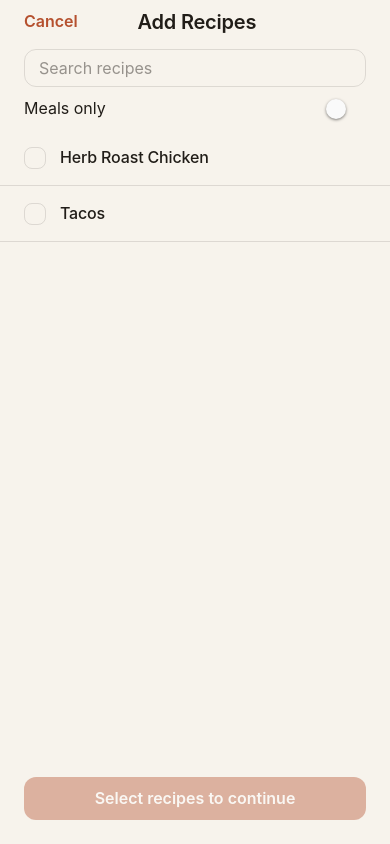
it: going back from the servings step preserves the selection
Check: the text "Herb Roast Chicken" is shown, box [60,147,209,167]
Click the checkbox with test id "add-to-this-week-recipe-r1".
click(195, 158)  # box [0,130,389,186]
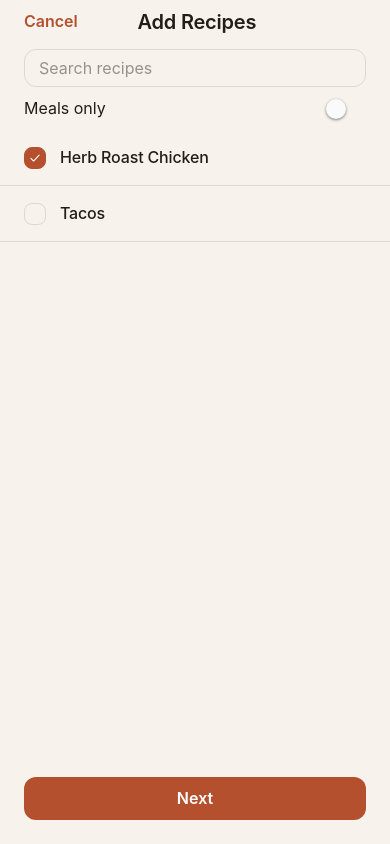
Click the button with test id "add-to-this-week-next".
click(195, 798)  # box [24,777,366,820]
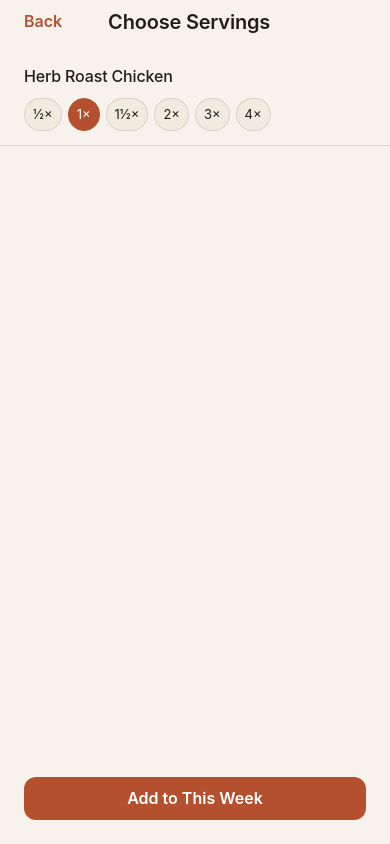
Click the button with test id "add-to-this-week-back".
click(43, 22)  # box [24,8,62,35]
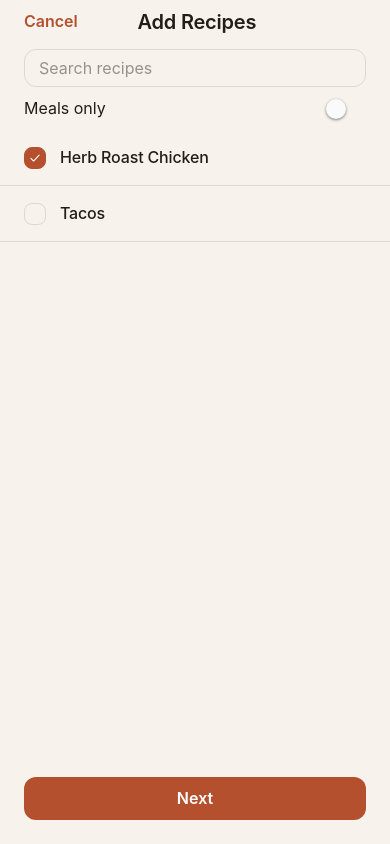
Check: the checkbox with test id "add-to-this-week-recipe-r1" is checked, box [0,130,389,186]
Check: the text "Add Recipes" is shown, box [137,10,256,34]
